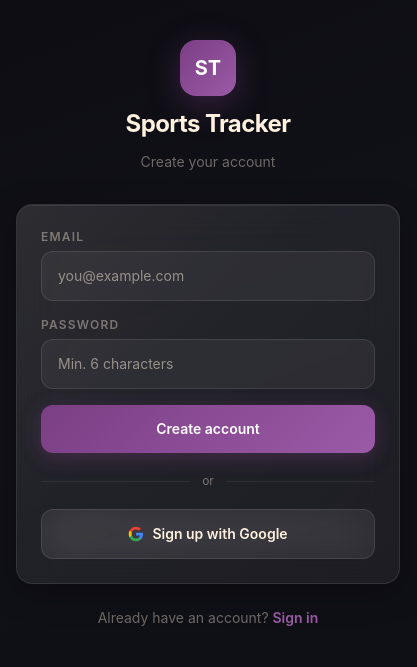
Scenario: SignUpPage › shows error message when signUp fails
Step 1. Type "user@example.com" into the field labelled "Email" → (208, 276), box [41,251,375,301]
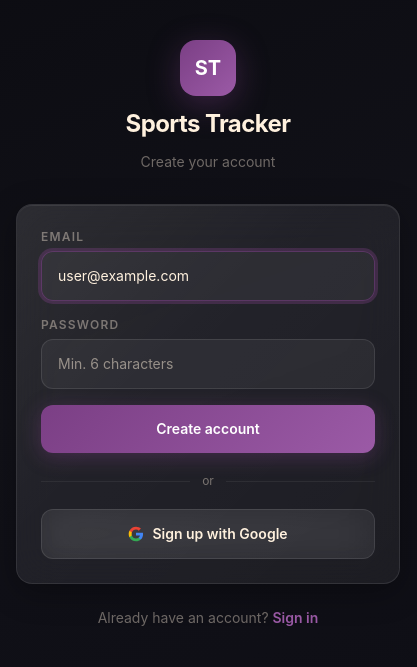
Step 2. Type "password123" into the password field labelled "Password" → (208, 364), box [41,339,375,389]
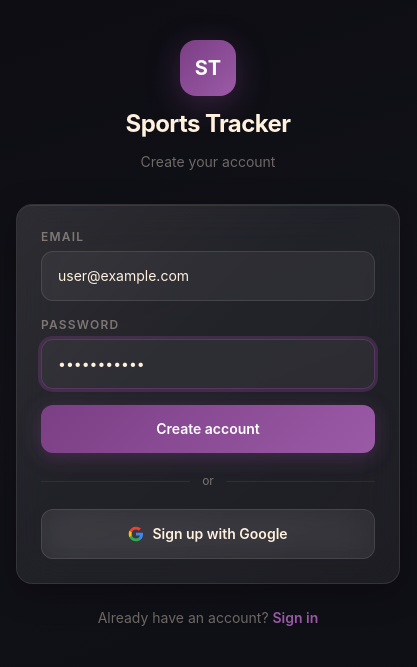
Step 3. Click the button "Create account" → (208, 429), box [41,405,375,453]
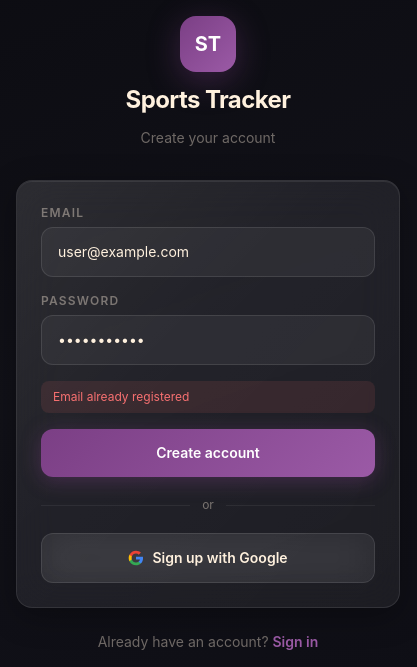
Now the message reads "Email already registered", box [53,389,189,404]
